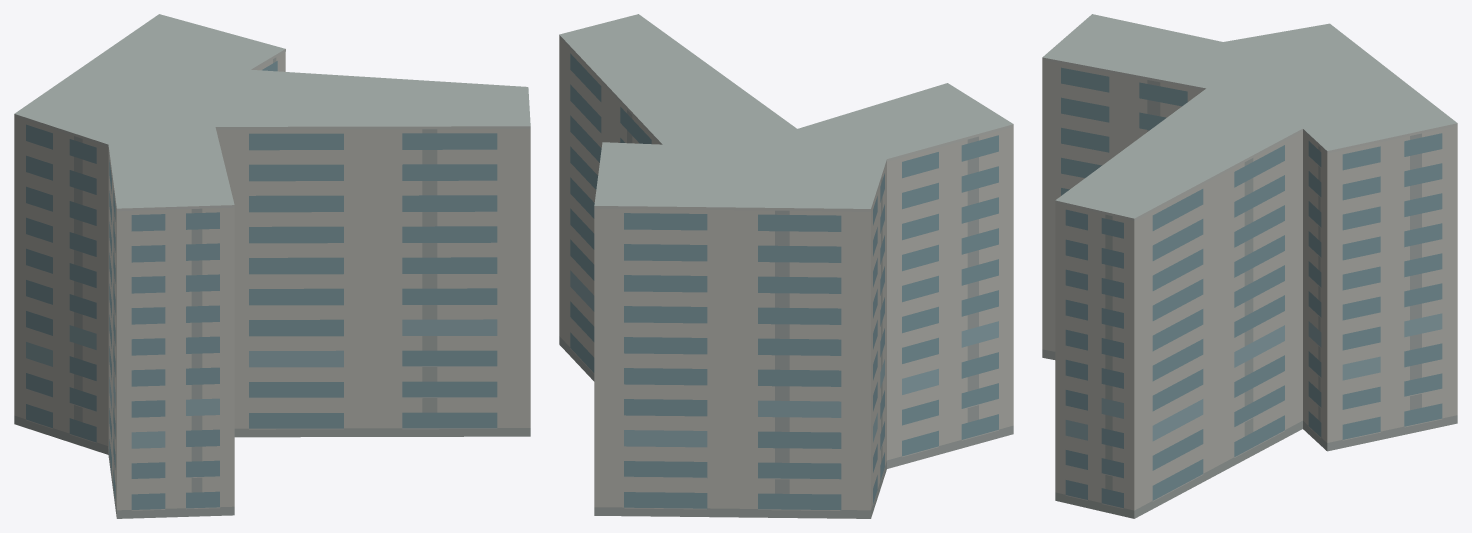
Rendered from residential-ffcc735b-bc52-469a-91df-9a3626f92c57.glb.
The picture shows the model from 3 angles, left to right: view 1: azimuth 30°, elevation 25°; view 2: azimuth 150°, elevation 25°; view 3: azimuth 270°, elevation 25°; orthographic projection. The views are drawn at different scales.
Visible parts, largest first — view 1: residential-ffcc735b-bc52-469a-91df-9a3626f92c57.tmp; view 2: residential-ffcc735b-bc52-469a-91df-9a3626f92c57.tmp; view 3: residential-ffcc735b-bc52-469a-91df-9a3626f92c57.tmp.
Part boxes in pixels (<box>): residential-ffcc735b-bc52-469a-91df-9a3626f92c57.tmp: <box>14,14,530,518</box>; residential-ffcc735b-bc52-469a-91df-9a3626f92c57.tmp: <box>559,14,1013,518</box>; residential-ffcc735b-bc52-469a-91df-9a3626f92c57.tmp: <box>1042,14,1457,518</box>.
Size of the model in its own units: 40.93 by 28 by 35.11.
